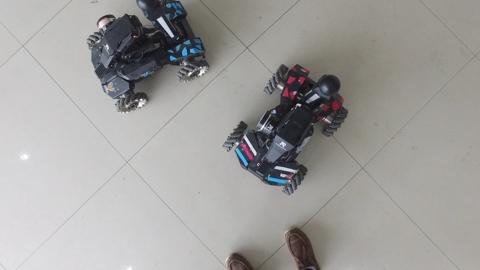chariot: (218, 63, 365, 197), (78, 1, 215, 118)
